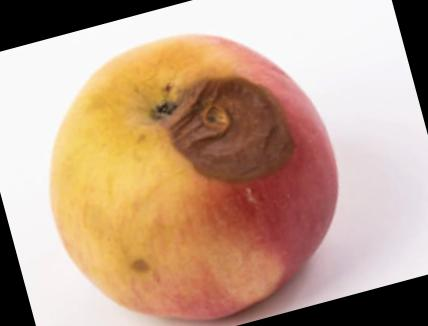Apple: (62, 37, 339, 318)
